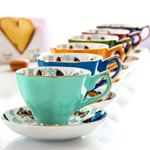cups: (13, 65, 114, 125)
